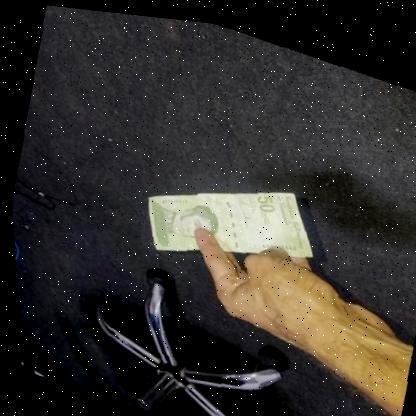fifty-front-vef: (130, 139, 326, 299)
